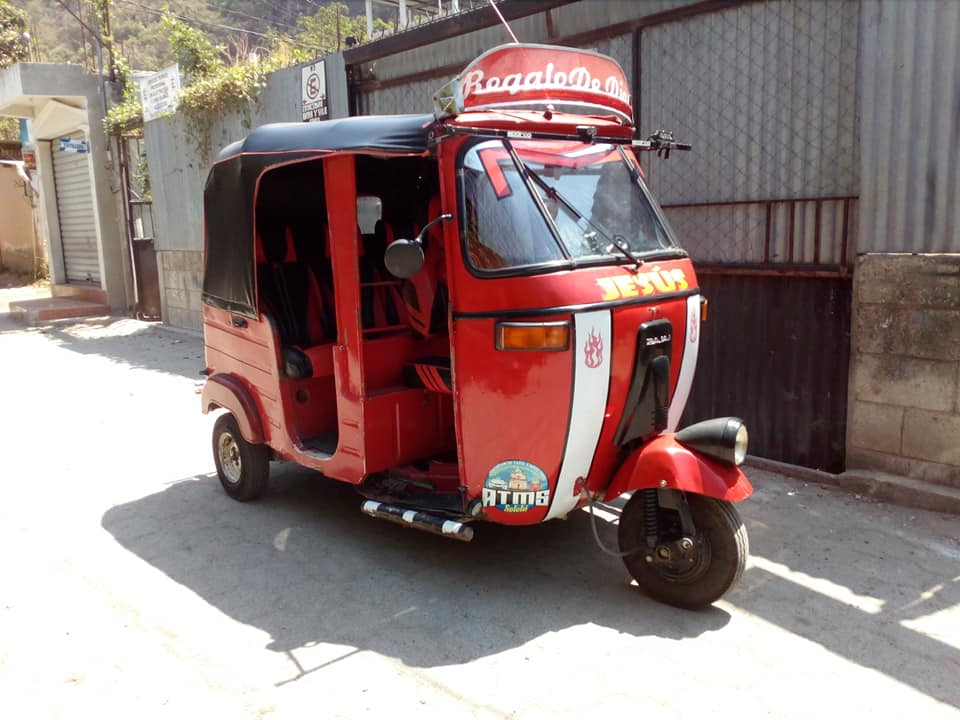mototaxi: (192, 118, 760, 617)
